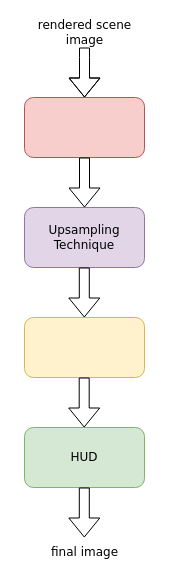
Some shapes in this 169 by 584 pixel diagram are drawn without their labels. Each missing label, with the centre of its shape:
"Anti-Aliasing" goes at (x=84, y=127).
"Post Process Effects" goes at (x=84, y=347).
